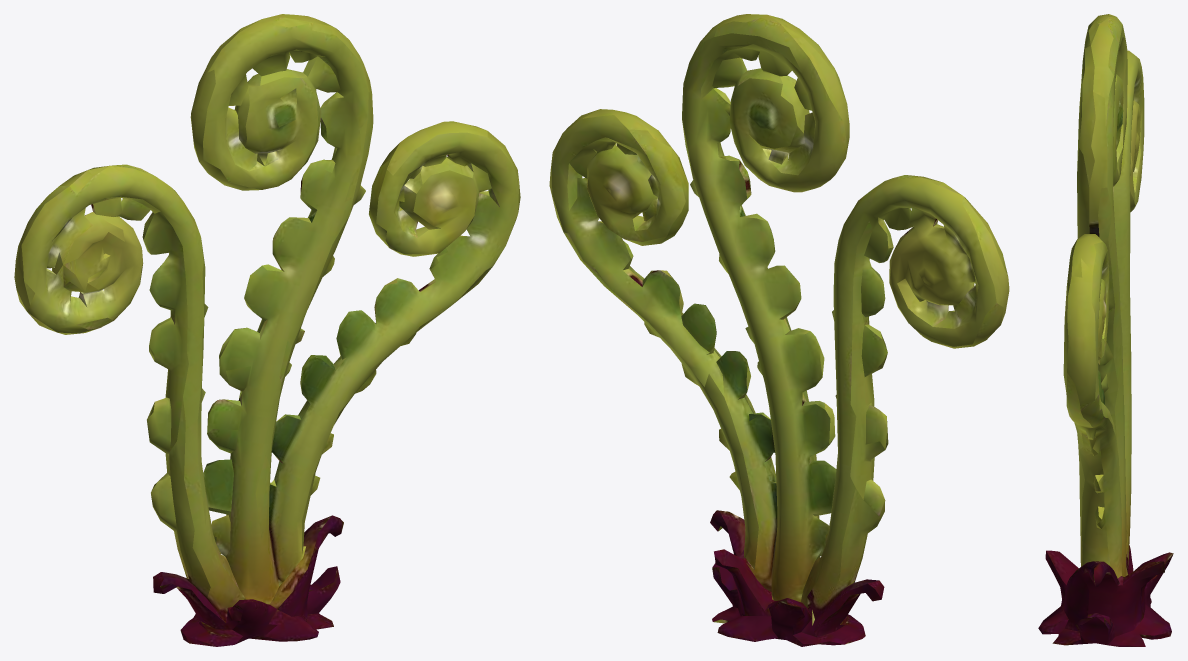
The model's file is fiddlehead.glb.
3 renders of one model, left to right at view 1: azimuth 30°, elevation 25°; view 2: azimuth 150°, elevation 25°; view 3: azimuth 270°, elevation 25°, orthographic.
Visible parts, largest first — view 1: item_fiddlehead; view 2: item_fiddlehead; view 3: item_fiddlehead.
Part boxes in pixels (bbox=[...]): item_fiddlehead: bbox=[14, 14, 520, 646]; item_fiddlehead: bbox=[549, 14, 1009, 646]; item_fiddlehead: bbox=[1038, 14, 1173, 646].
Bounding box in the file's own units: 0.8326 × 1 × 0.202.
Materials: 1 (1 with a texture image).
